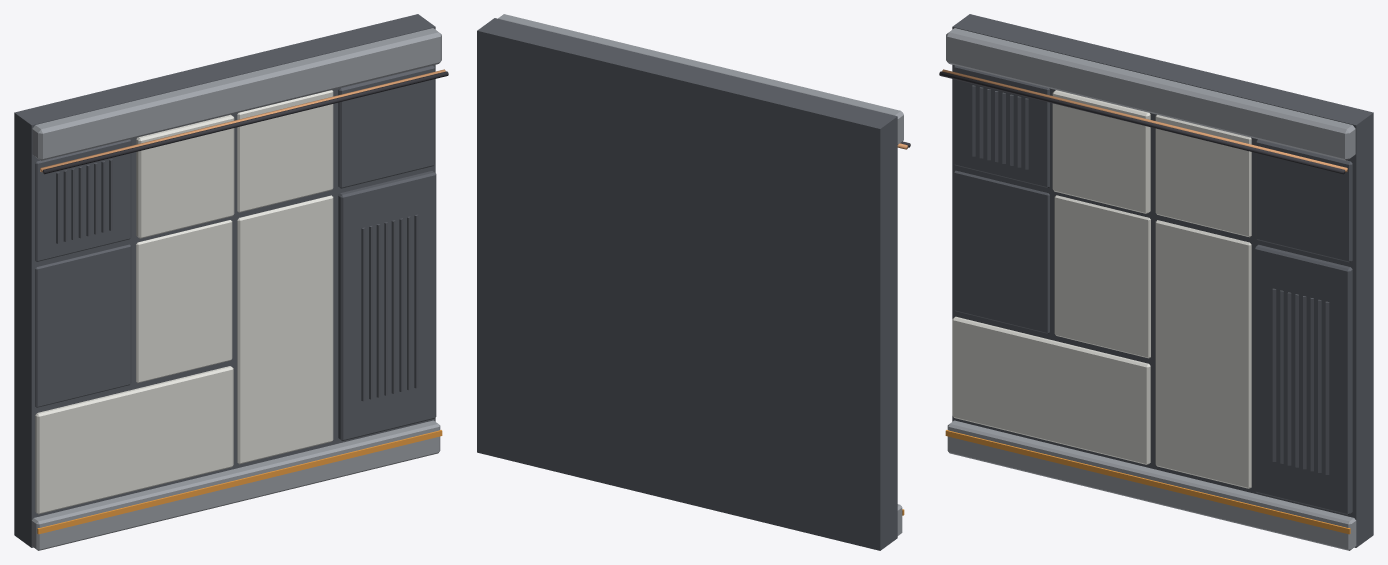
The model's file is wall_plain_c.glb.
3 views of the same model, side by side, from view 1: azimuth 30°, elevation 25°; view 2: azimuth 150°, elevation 25°; view 3: azimuth 330°, elevation 25° (orthographic).
Parts seen in each view (by area): view 1: wall_plain_c; view 2: wall_plain_c; view 3: wall_plain_c.
Boxes of the visible parts, x1,y1,x2,y2 form: wall_plain_c: [14, 14, 448, 550]; wall_plain_c: [477, 14, 910, 550]; wall_plain_c: [939, 14, 1373, 550].
Bounding box in the file's own units: 4 × 4 × 0.525.
